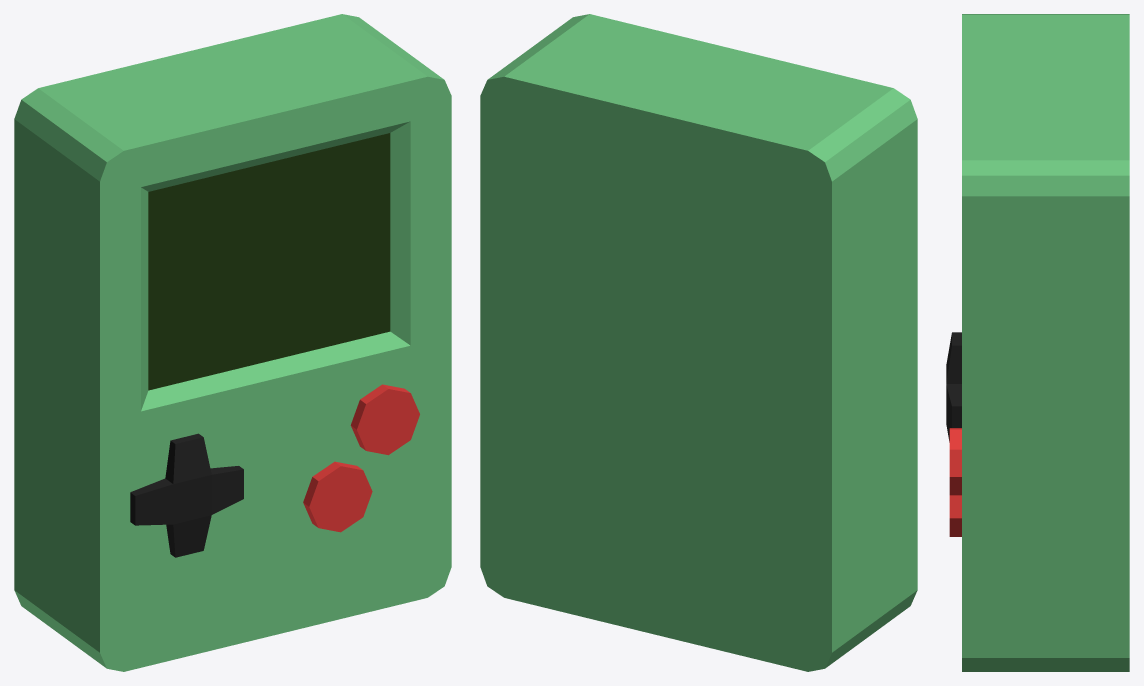
Rendered from gameBoy.fbx.
3 renders of one model, left to right at view 1: azimuth 30°, elevation 25°; view 2: azimuth 150°, elevation 25°; view 3: azimuth 270°, elevation 25°, orthographic. The views are drawn at different scales.
Parts seen in each view (by area): view 1: Game Boy; view 2: Game Boy; view 3: Game Boy.
Boxes of the visible parts, left/top/right/bottom form: Game Boy: left=14, top=14, right=451, bottom=671; Game Boy: left=480, top=14, right=917, bottom=671; Game Boy: left=946, top=14, right=1129, bottom=671.
Bounding box in the file's own units: 32.84 × 15.14 × 46.5.
